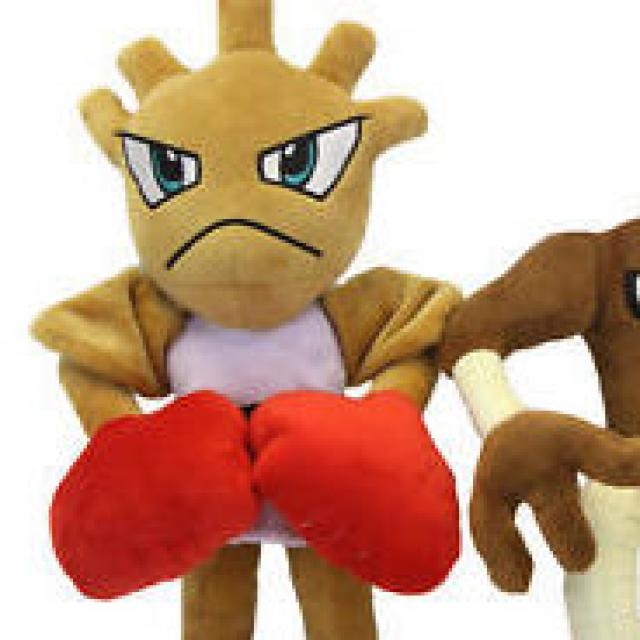Hitmonchan: (32, 0, 462, 640)
